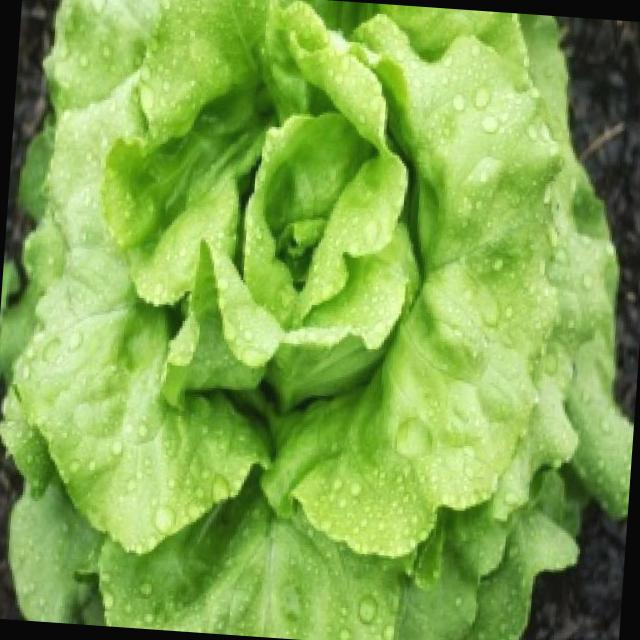Lettuce-Ready-to-Harvest: (0, 0, 633, 640)
